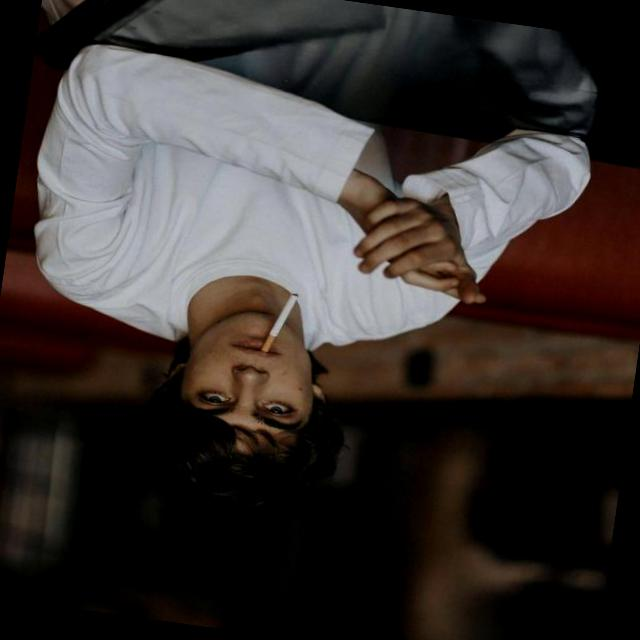cigarette: (253, 279, 316, 366)
